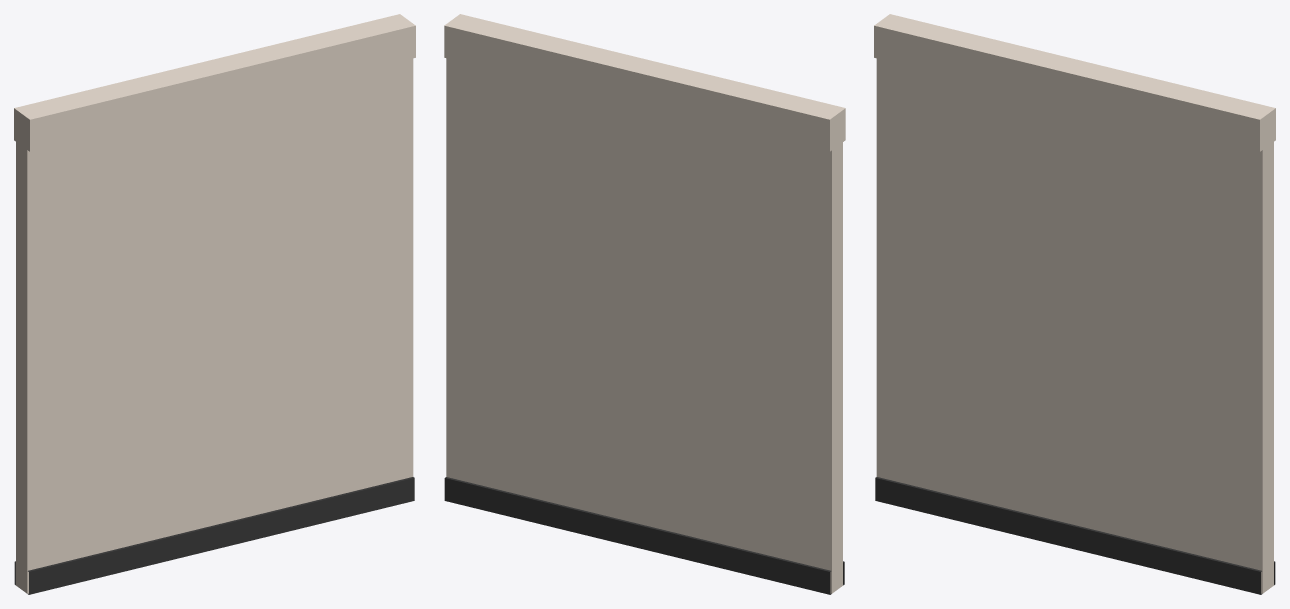
The model's file is SCH0110027.fbx.
3 views of the same model, side by side, from view 1: azimuth 30°, elevation 25°; view 2: azimuth 150°, elevation 25°; view 3: azimuth 330°, elevation 25° (orthographic).
Parts seen in each view (by area): view 1: smSCH0110027; view 2: smSCH0110027; view 3: smSCH0110027.
Part boxes in pixels (bbox=[...]): smSCH0110027: bbox=[14, 14, 415, 594]; smSCH0110027: bbox=[444, 14, 845, 594]; smSCH0110027: bbox=[874, 14, 1275, 594].
Bounding box in the file's own units: 337 × 398 × 24.12.
1 material, 1 textured.
